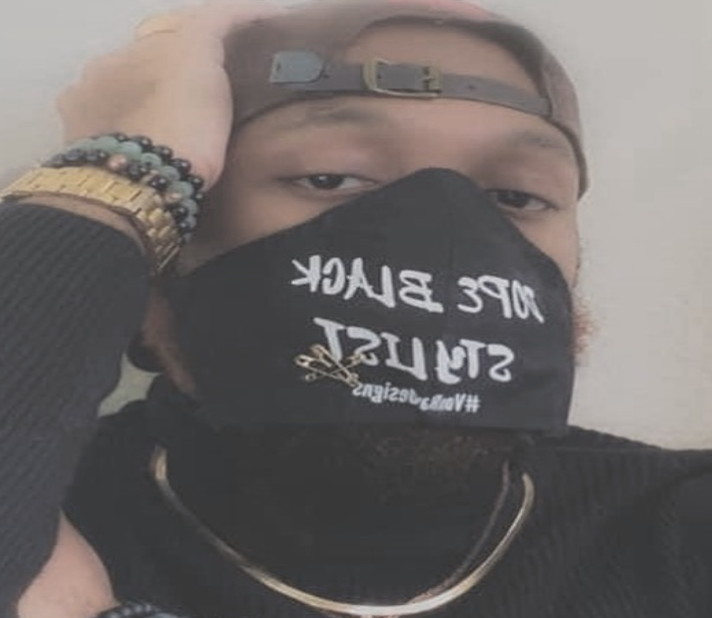mask_weared_incorrect: (111, 0, 612, 504)
